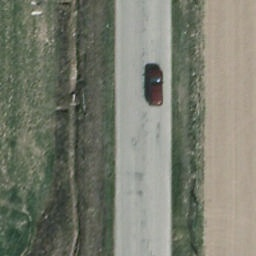car: (148, 70, 164, 107)
